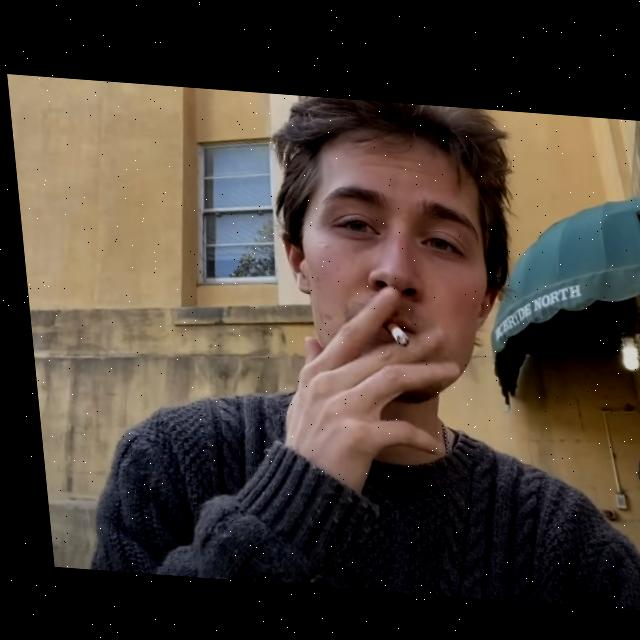cigarette: (380, 316, 404, 341)
